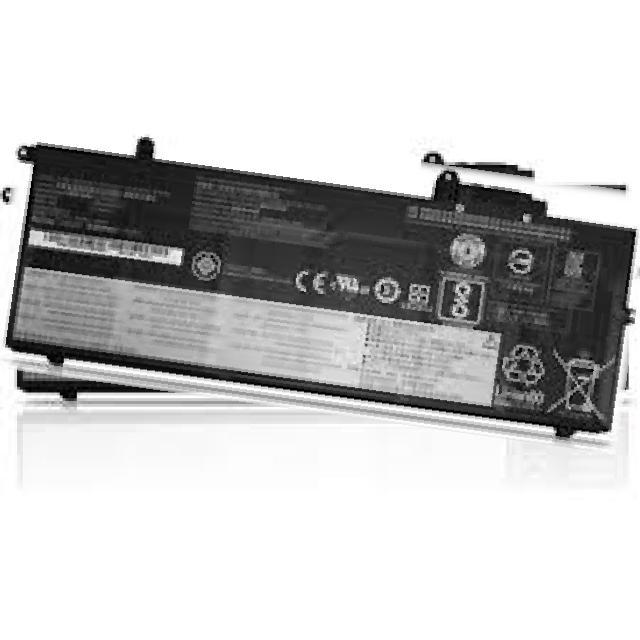Battery: (9, 126, 640, 561)
